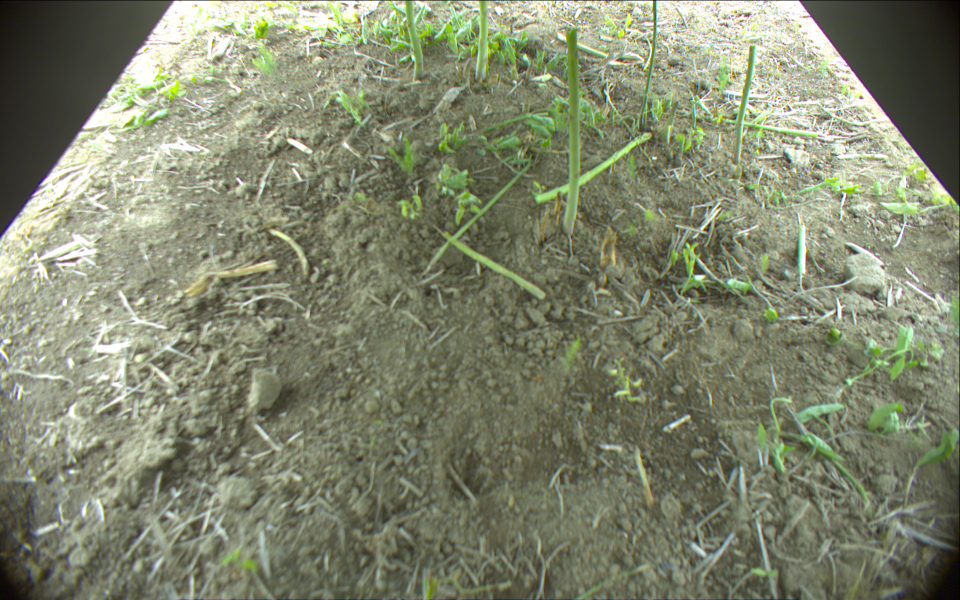aspa: (426, 156, 538, 271), (533, 131, 652, 205), (433, 226, 547, 301), (561, 27, 583, 233), (733, 44, 757, 165), (638, 1, 656, 126), (718, 118, 820, 139), (405, 1, 425, 82), (554, 31, 608, 60), (475, 1, 490, 80), (662, 101, 679, 143), (797, 224, 809, 274)
